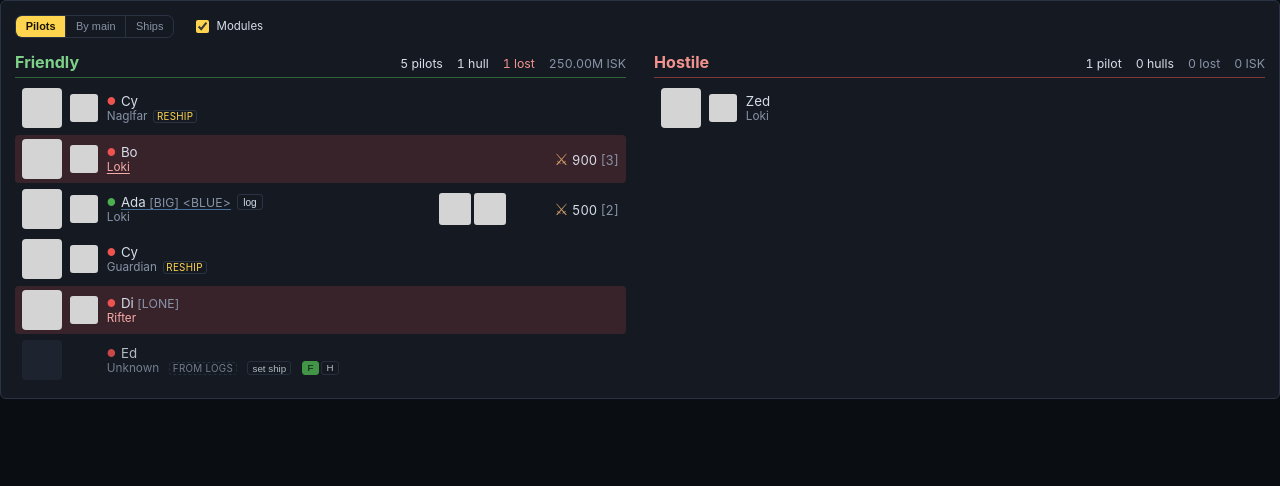
Test: InvolvedTab › groups by main for FC / High Command
expect the element with test id "involved-friendly" is shown: met, box [15, 52, 626, 384]
Step 1. Click the button "By main" → [96, 26], box [66, 16, 126, 37]
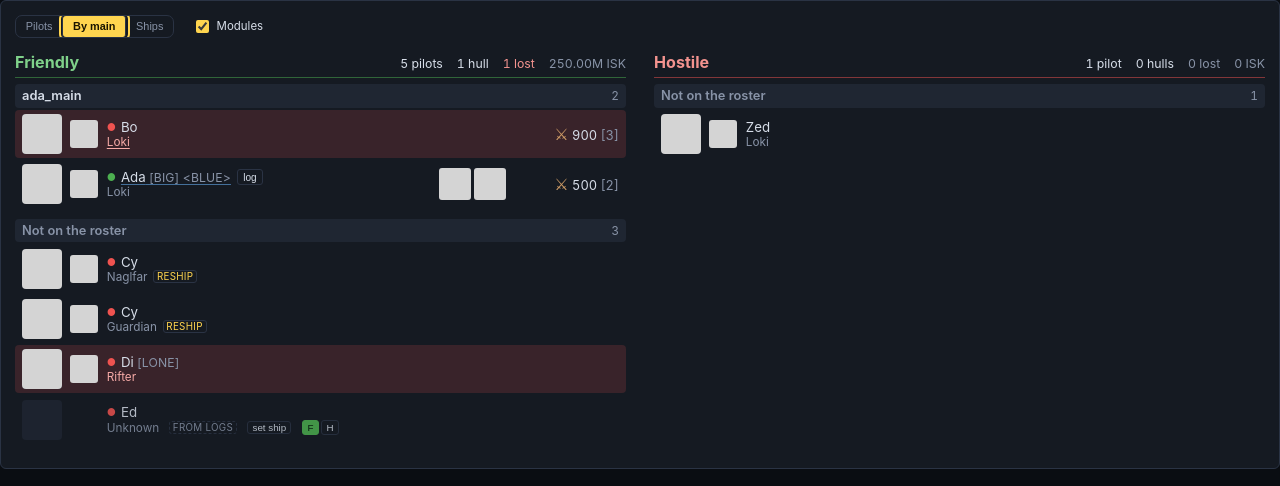
expect the element with test id "inv-main" shows "ada_main": met, box [22, 88, 82, 103]
expect the element with test id "inv-main" shows "Not on the roster": met, box [22, 223, 127, 238]
